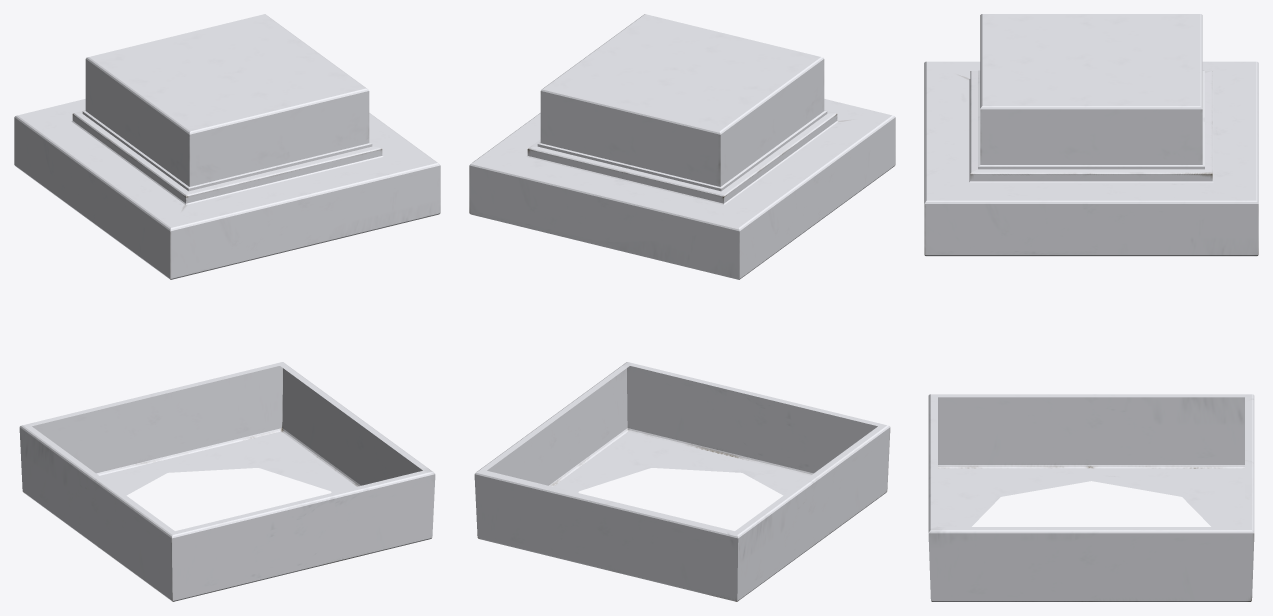
Rendered from POW_03.glb.
3 views of the same model, side by side, from view 1: azimuth 30°, elevation 25°; view 2: azimuth 150°, elevation 25°; view 3: azimuth 270°, elevation 25° (orthographic). The views are drawn at different scales.
Bounding box in the file's own units: 0.1485 × 0.2331 × 0.1485.
Materials: 1 (1 with a texture image).
